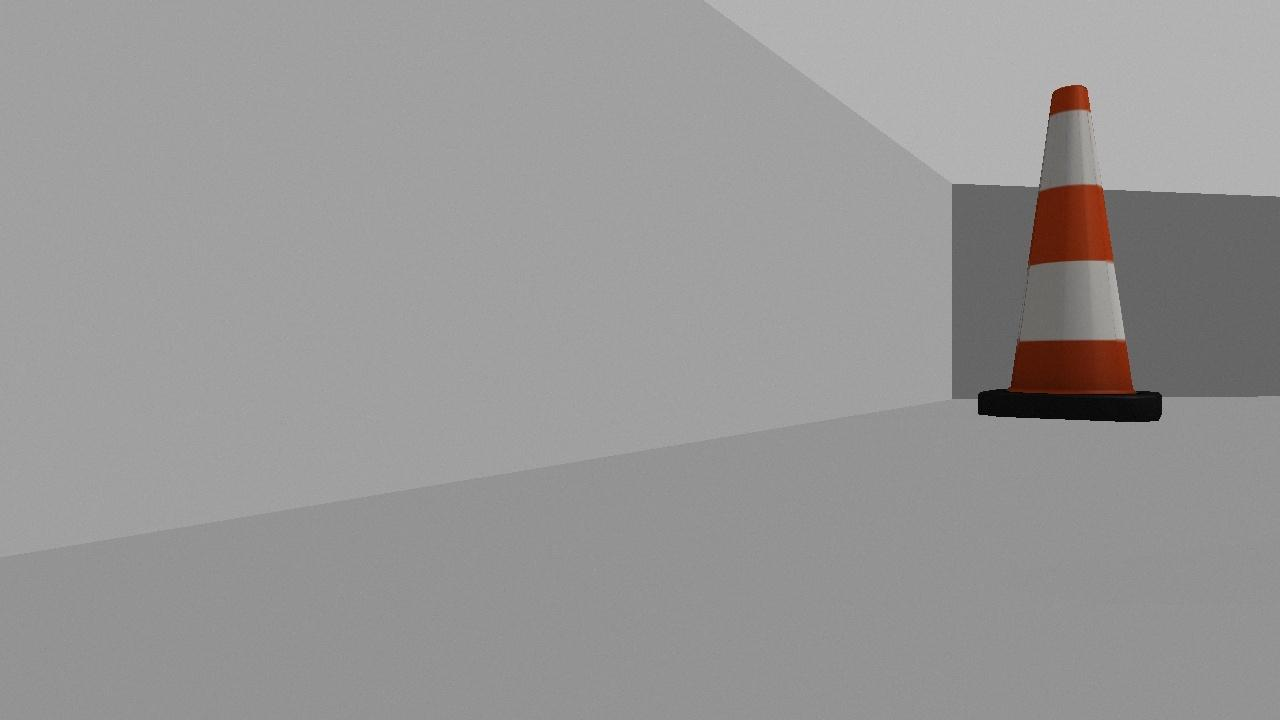cone_barrel: (968, 67, 1176, 449)
